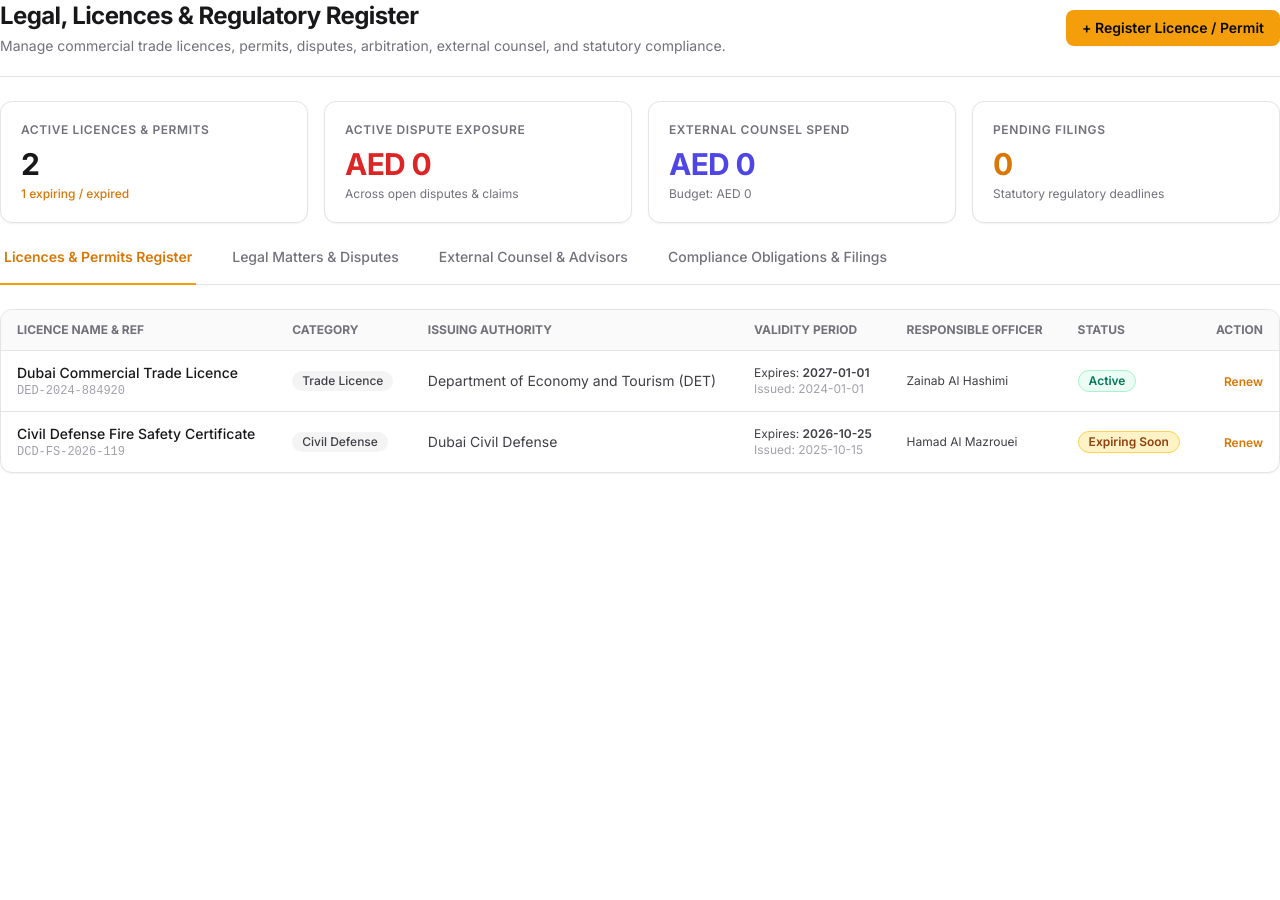
LegalPage › opens the Register Licence modal when clicking the button
Click the button "+ Register Licence / Permit". click: (1173, 28)
box: [1066,10,1279,46]
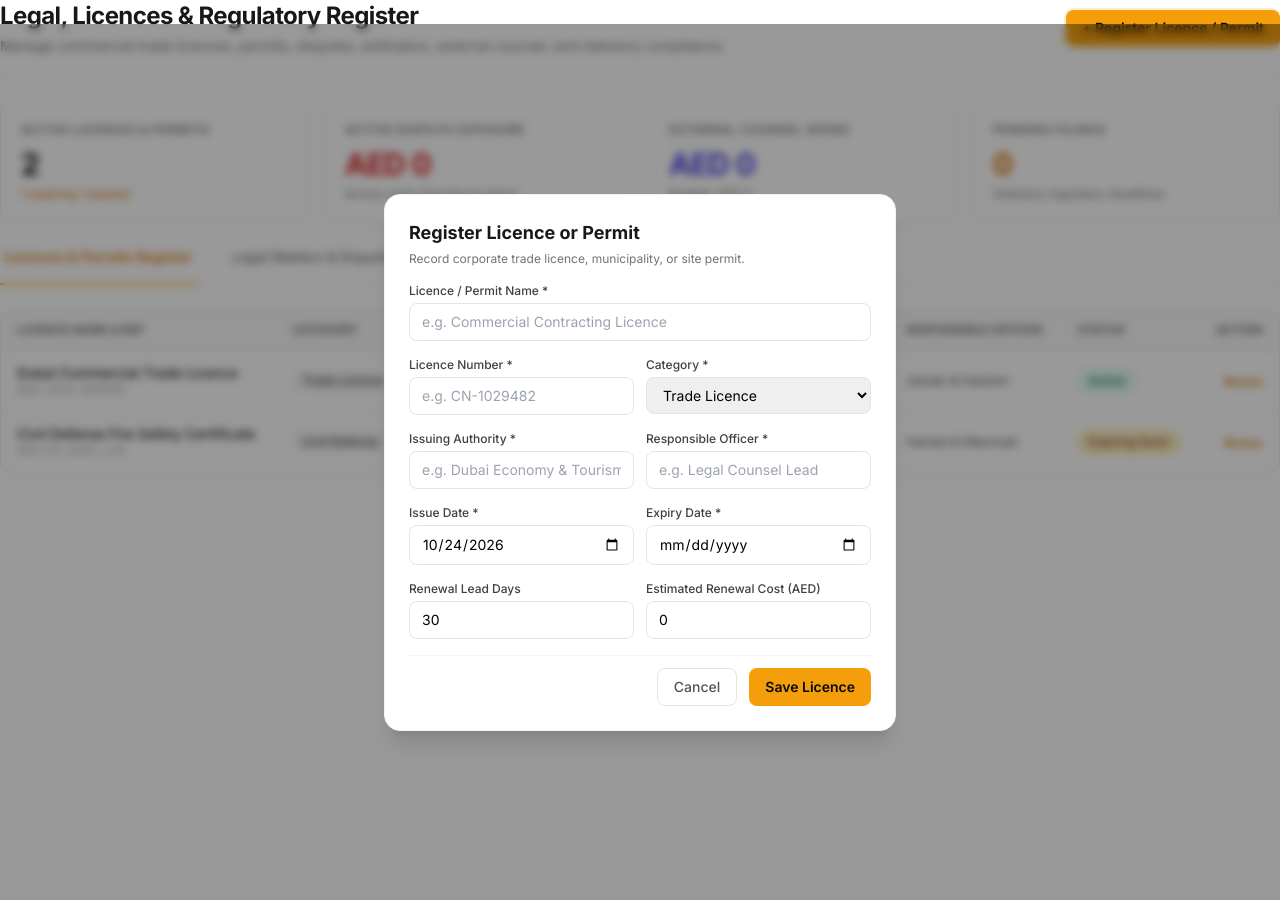
Expected: the heading "Register Licence or Permit" is shown, [409,222,640,242]
Expected: the field with placeholder "e.g. Commercial Contracting Licence" is shown, [409,302,871,340]
Click the button "Cancel". click: (697, 686)
box: [657,668,737,706]
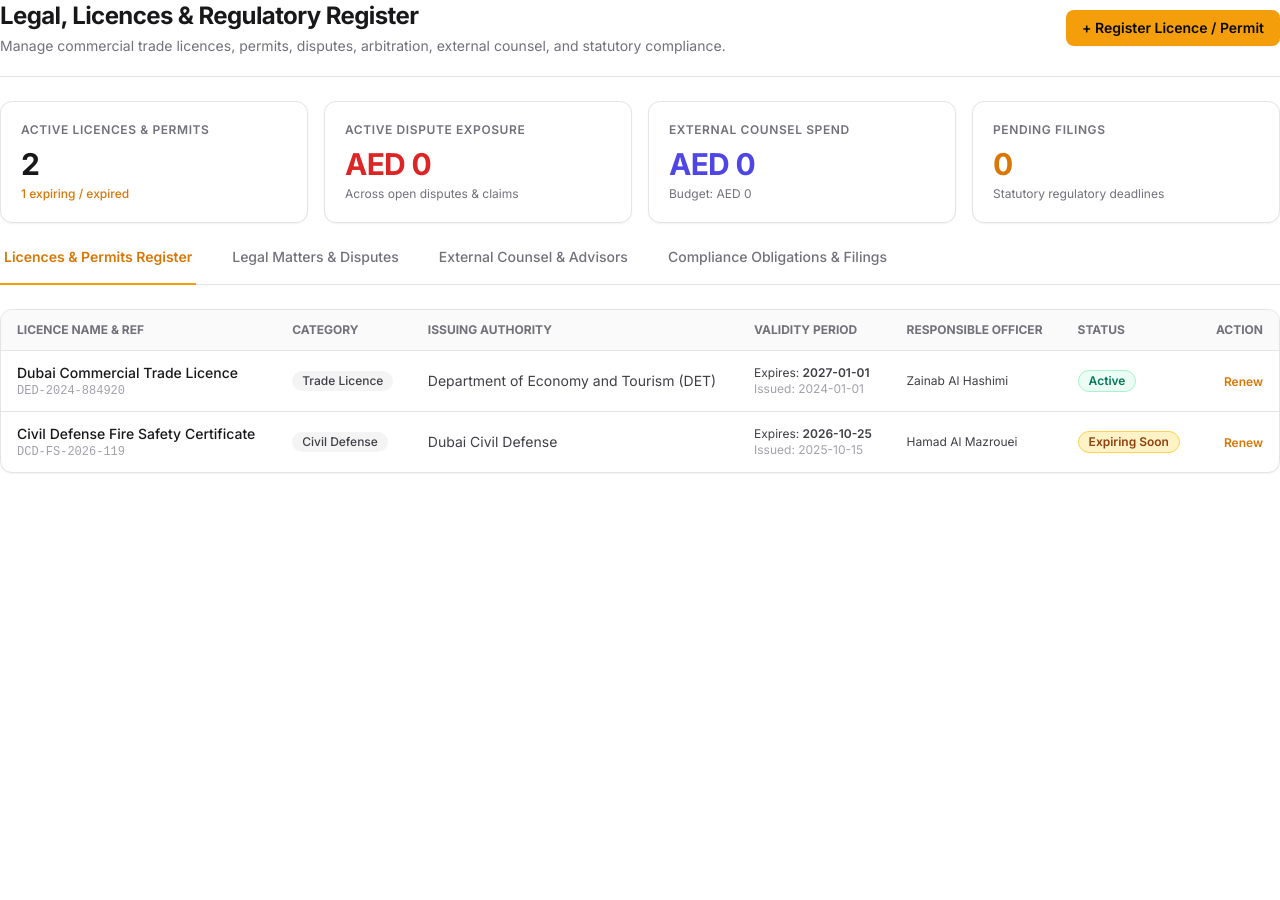
Expected: the heading "Register Licence or Permit" is gone
